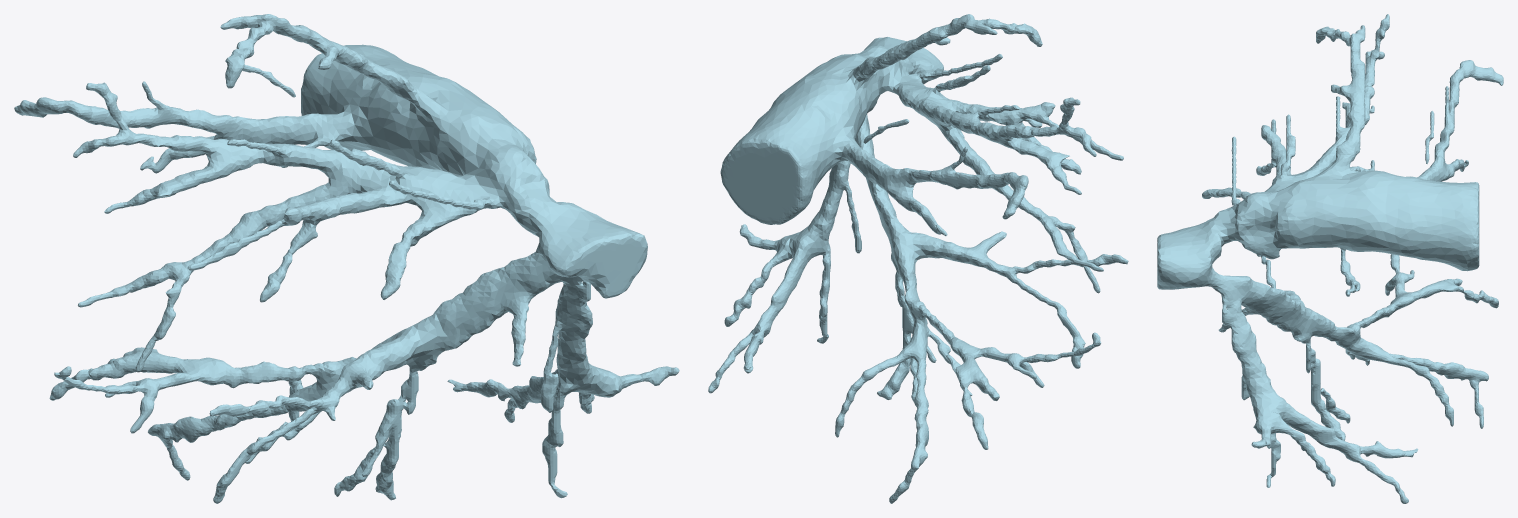
The model's file is venacava.obj.
3 renders of one model, left to right at view 1: azimuth 30°, elevation 25°; view 2: azimuth 150°, elevation 25°; view 3: azimuth 270°, elevation 25°, orthographic. The views are drawn at different scales.
Visible parts, largest first — view 1: grp1; view 2: grp1; view 3: grp1.
Part boxes in pixels (<box>): grp1: <box>14,14,679,503</box>; grp1: <box>708,14,1128,503</box>; grp1: <box>1157,14,1503,503</box>.
Bounding box in the file's own units: 146 × 140 × 112.
